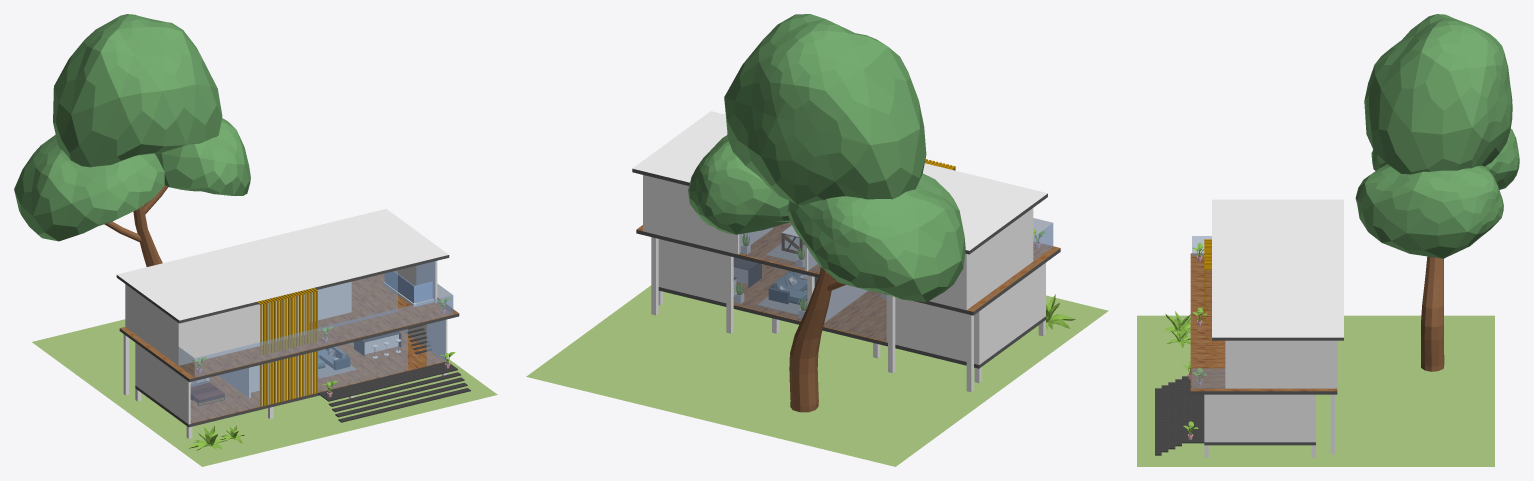
The model's file is Jan_14_3d_home.glb.
3 views of the same model, side by side, from view 1: azimuth 30°, elevation 25°; view 2: azimuth 150°, elevation 25°; view 3: azimuth 270°, elevation 25° (orthographic). The views are drawn at different scales.
Visible parts, largest first — view 1: Tree2, ground floor, floors, glass, first floor, aesthetic, stairs, Bed_King, group1170318925; view 2: ground floor, Tree2, floors, first floor, glass, group1170318925; view 3: ground floor, Tree2, floors, first floor, stairs, glass.
Boxes of the visible parts, x1,y1,x2,y2 form: Tree2: (14,14,250,266); ground floor: (32,319,497,466); floors: (116,209,459,382); glass: (178,261,453,423); first floor: (125,261,437,365); aesthetic: (257,288,317,406); stairs: (318,325,470,422); Bed_King: (190,378,224,406); group1170318925: (318,346,350,370); ground floor: (526,237,1108,466); Tree2: (688,14,965,412); floors: (632,111,1060,315); first floor: (643,175,1033,310); glass: (733,218,1053,341); group1170318925: (768,271,807,304); ground floor: (1137,315,1494,466); Tree2: (1355,14,1519,371); floors: (1190,199,1343,394); first floor: (1225,340,1337,388); stairs: (1155,376,1204,455); glass: (1192,236,1225,388).
Size of what is drawn, in the model's own units: 17.39 by 16.59 by 17.11.
58 materials, 11 textured.
